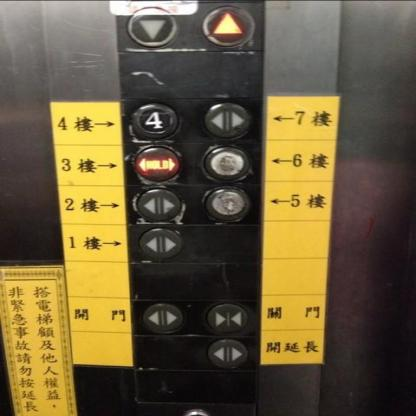4: (130, 100, 179, 140)
blur: (200, 185, 252, 224), (200, 144, 252, 182)
close: (203, 300, 250, 335)
down: (126, 5, 178, 48)
open: (200, 100, 254, 141), (136, 224, 184, 262), (134, 186, 181, 223), (137, 300, 185, 334), (205, 336, 252, 370)
text_blur: (130, 143, 183, 185)
up: (198, 5, 256, 48)
